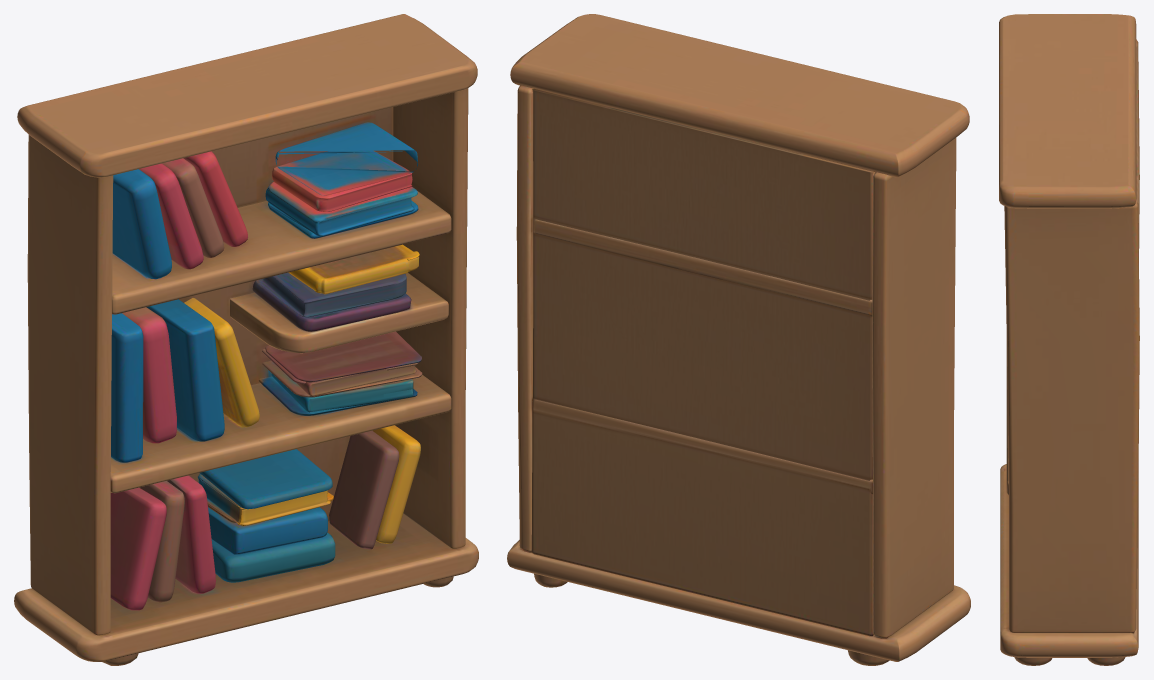
File: toonstudio_bookshelf.glb
3 views of the same model, side by side, from view 1: azimuth 30°, elevation 25°; view 2: azimuth 150°, elevation 25°; view 3: azimuth 270°, elevation 25° (orthographic). The views are drawn at different scales.
Parts seen in each view (by area): view 1: tripo_54c15880_cea4_4e5d_a06e_f9656d8c3df3; view 2: tripo_54c15880_cea4_4e5d_a06e_f9656d8c3df3; view 3: tripo_54c15880_cea4_4e5d_a06e_f9656d8c3df3.
Part boxes in pixels (bbox=[...]): tripo_54c15880_cea4_4e5d_a06e_f9656d8c3df3: bbox=[14, 14, 478, 665]; tripo_54c15880_cea4_4e5d_a06e_f9656d8c3df3: bbox=[507, 14, 970, 665]; tripo_54c15880_cea4_4e5d_a06e_f9656d8c3df3: bbox=[999, 14, 1139, 665].
Size of the model in its own units: 1.44 by 1.8 by 0.4722.
1 material, 1 textured.
